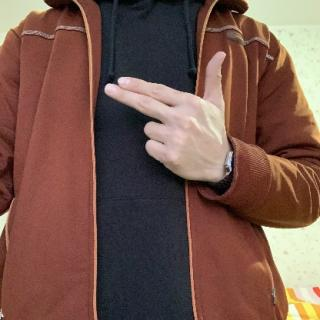GHAYN: (102, 49, 234, 184)
